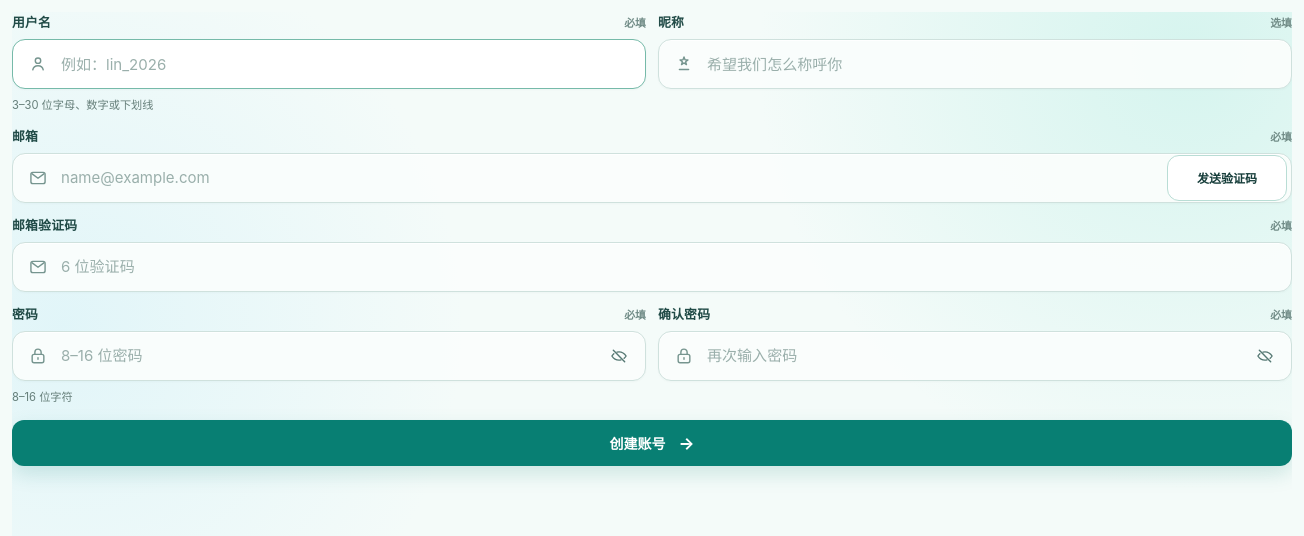
Test case: AuthForm › shows a duplicate-email error beside the registration email
Type "used@example.com" into the field labelled "邮箱". click: (652, 178)
box: [12,153,1292,203]
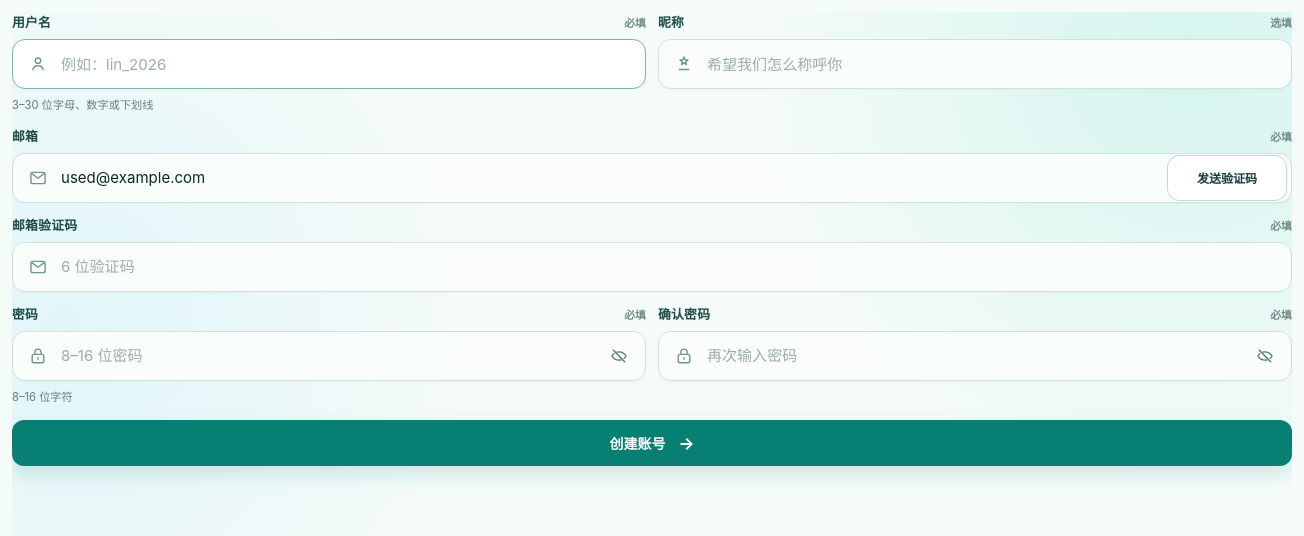
Click the button "发送验证码". click: (1227, 178)
box: [1167,155,1287,201]
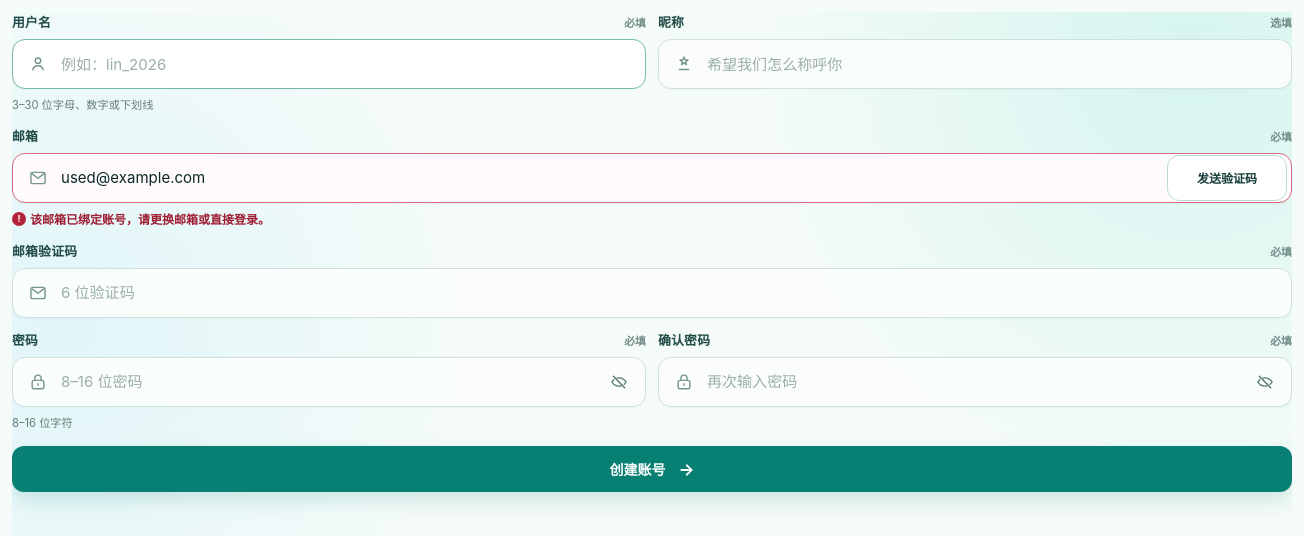
Check: the text "该邮箱已绑定账号，请更换邮箱或直接登录。" is shown, box [30,212,270,227]
